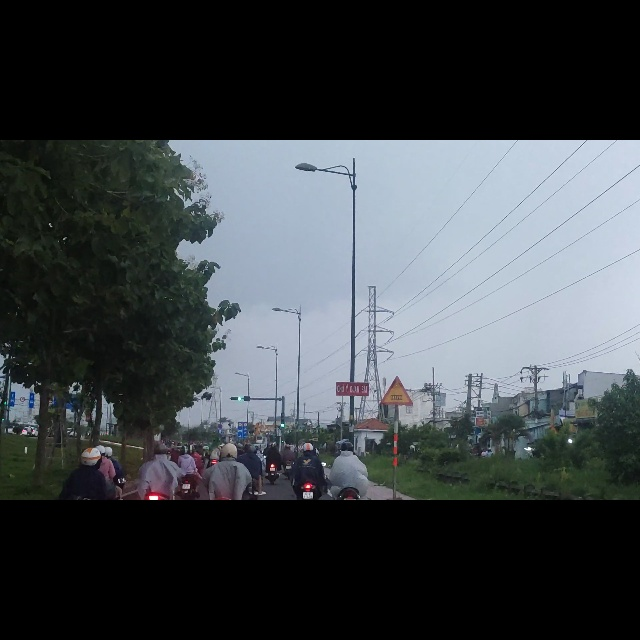bien_nguy_hiem: (381, 420, 413, 472)
